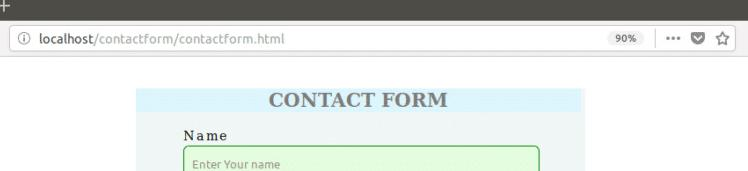field: (8, 21, 658, 53), (656, 22, 740, 53)
